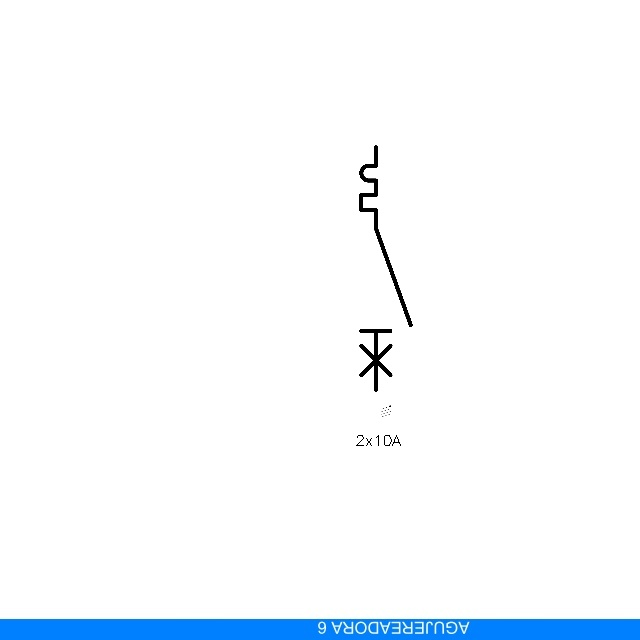interruptor_termomagnetico: (355, 141, 417, 396)
